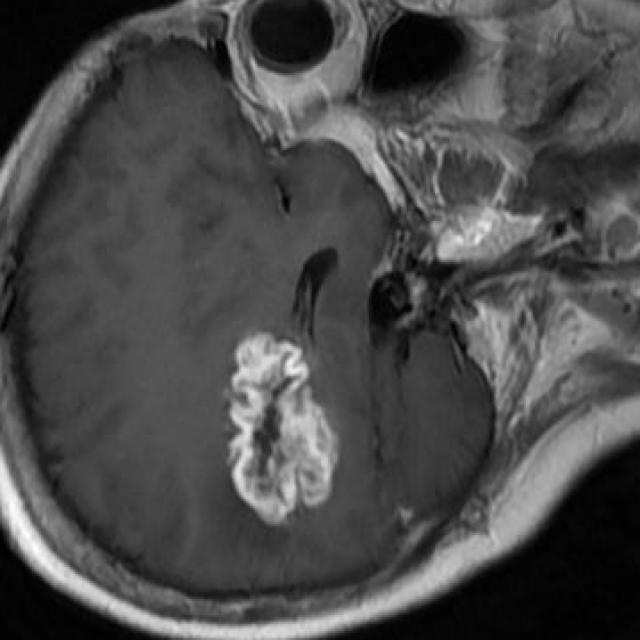glioma: (226, 332, 341, 528)
